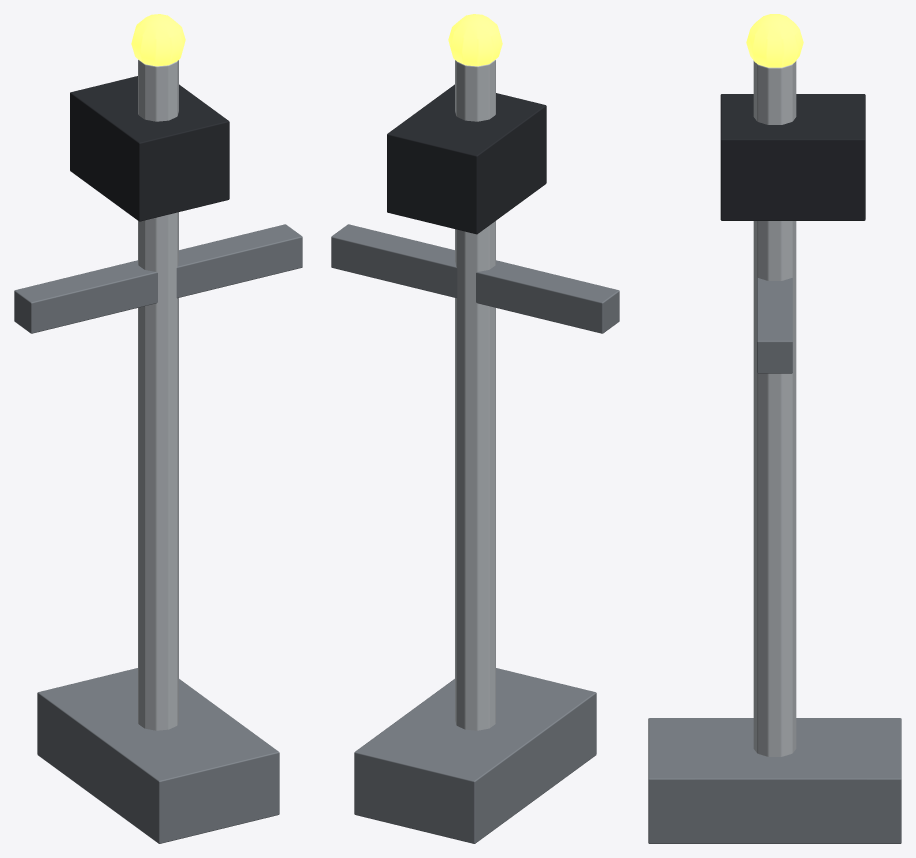
Rendered from wraith_utility_mast.fbx.
3 views of the same model, side by side, from view 1: azimuth 30°, elevation 25°; view 2: azimuth 150°, elevation 25°; view 3: azimuth 270°, elevation 25° (orthographic). The views are drawn at different scales.
Parts seen in each view (by area): view 1: Utility_Mast; view 2: Utility_Mast; view 3: Utility_Mast.
Part boxes in pixels (left/top/right/bottom): Utility_Mast: left=14, top=14, right=302, bottom=843; Utility_Mast: left=331, top=14, right=619, bottom=843; Utility_Mast: left=648, top=14, right=901, bottom=843.
Bounding box in the file's own units: 30.6 × 82.62 × 23.8.
